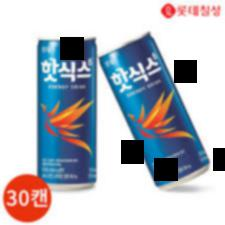hotsix_org: (37, 35, 104, 191)
